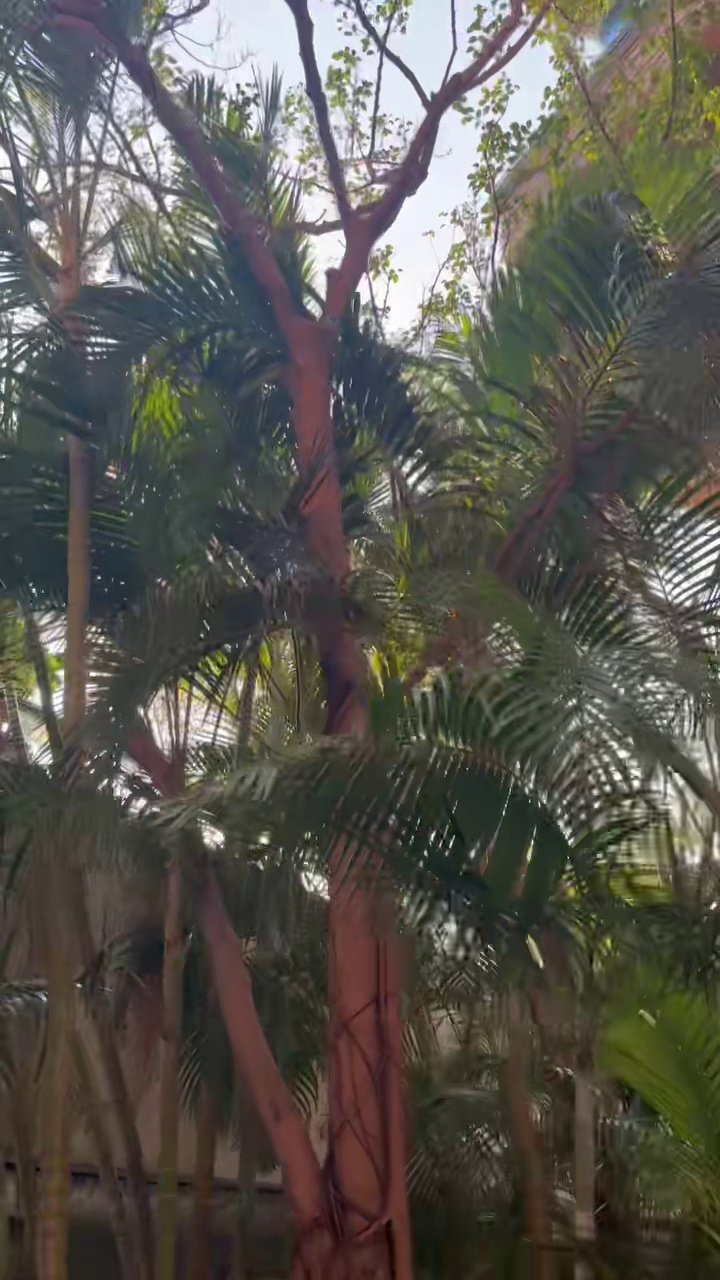Ficus benjamina: (45, 0, 541, 1279)
